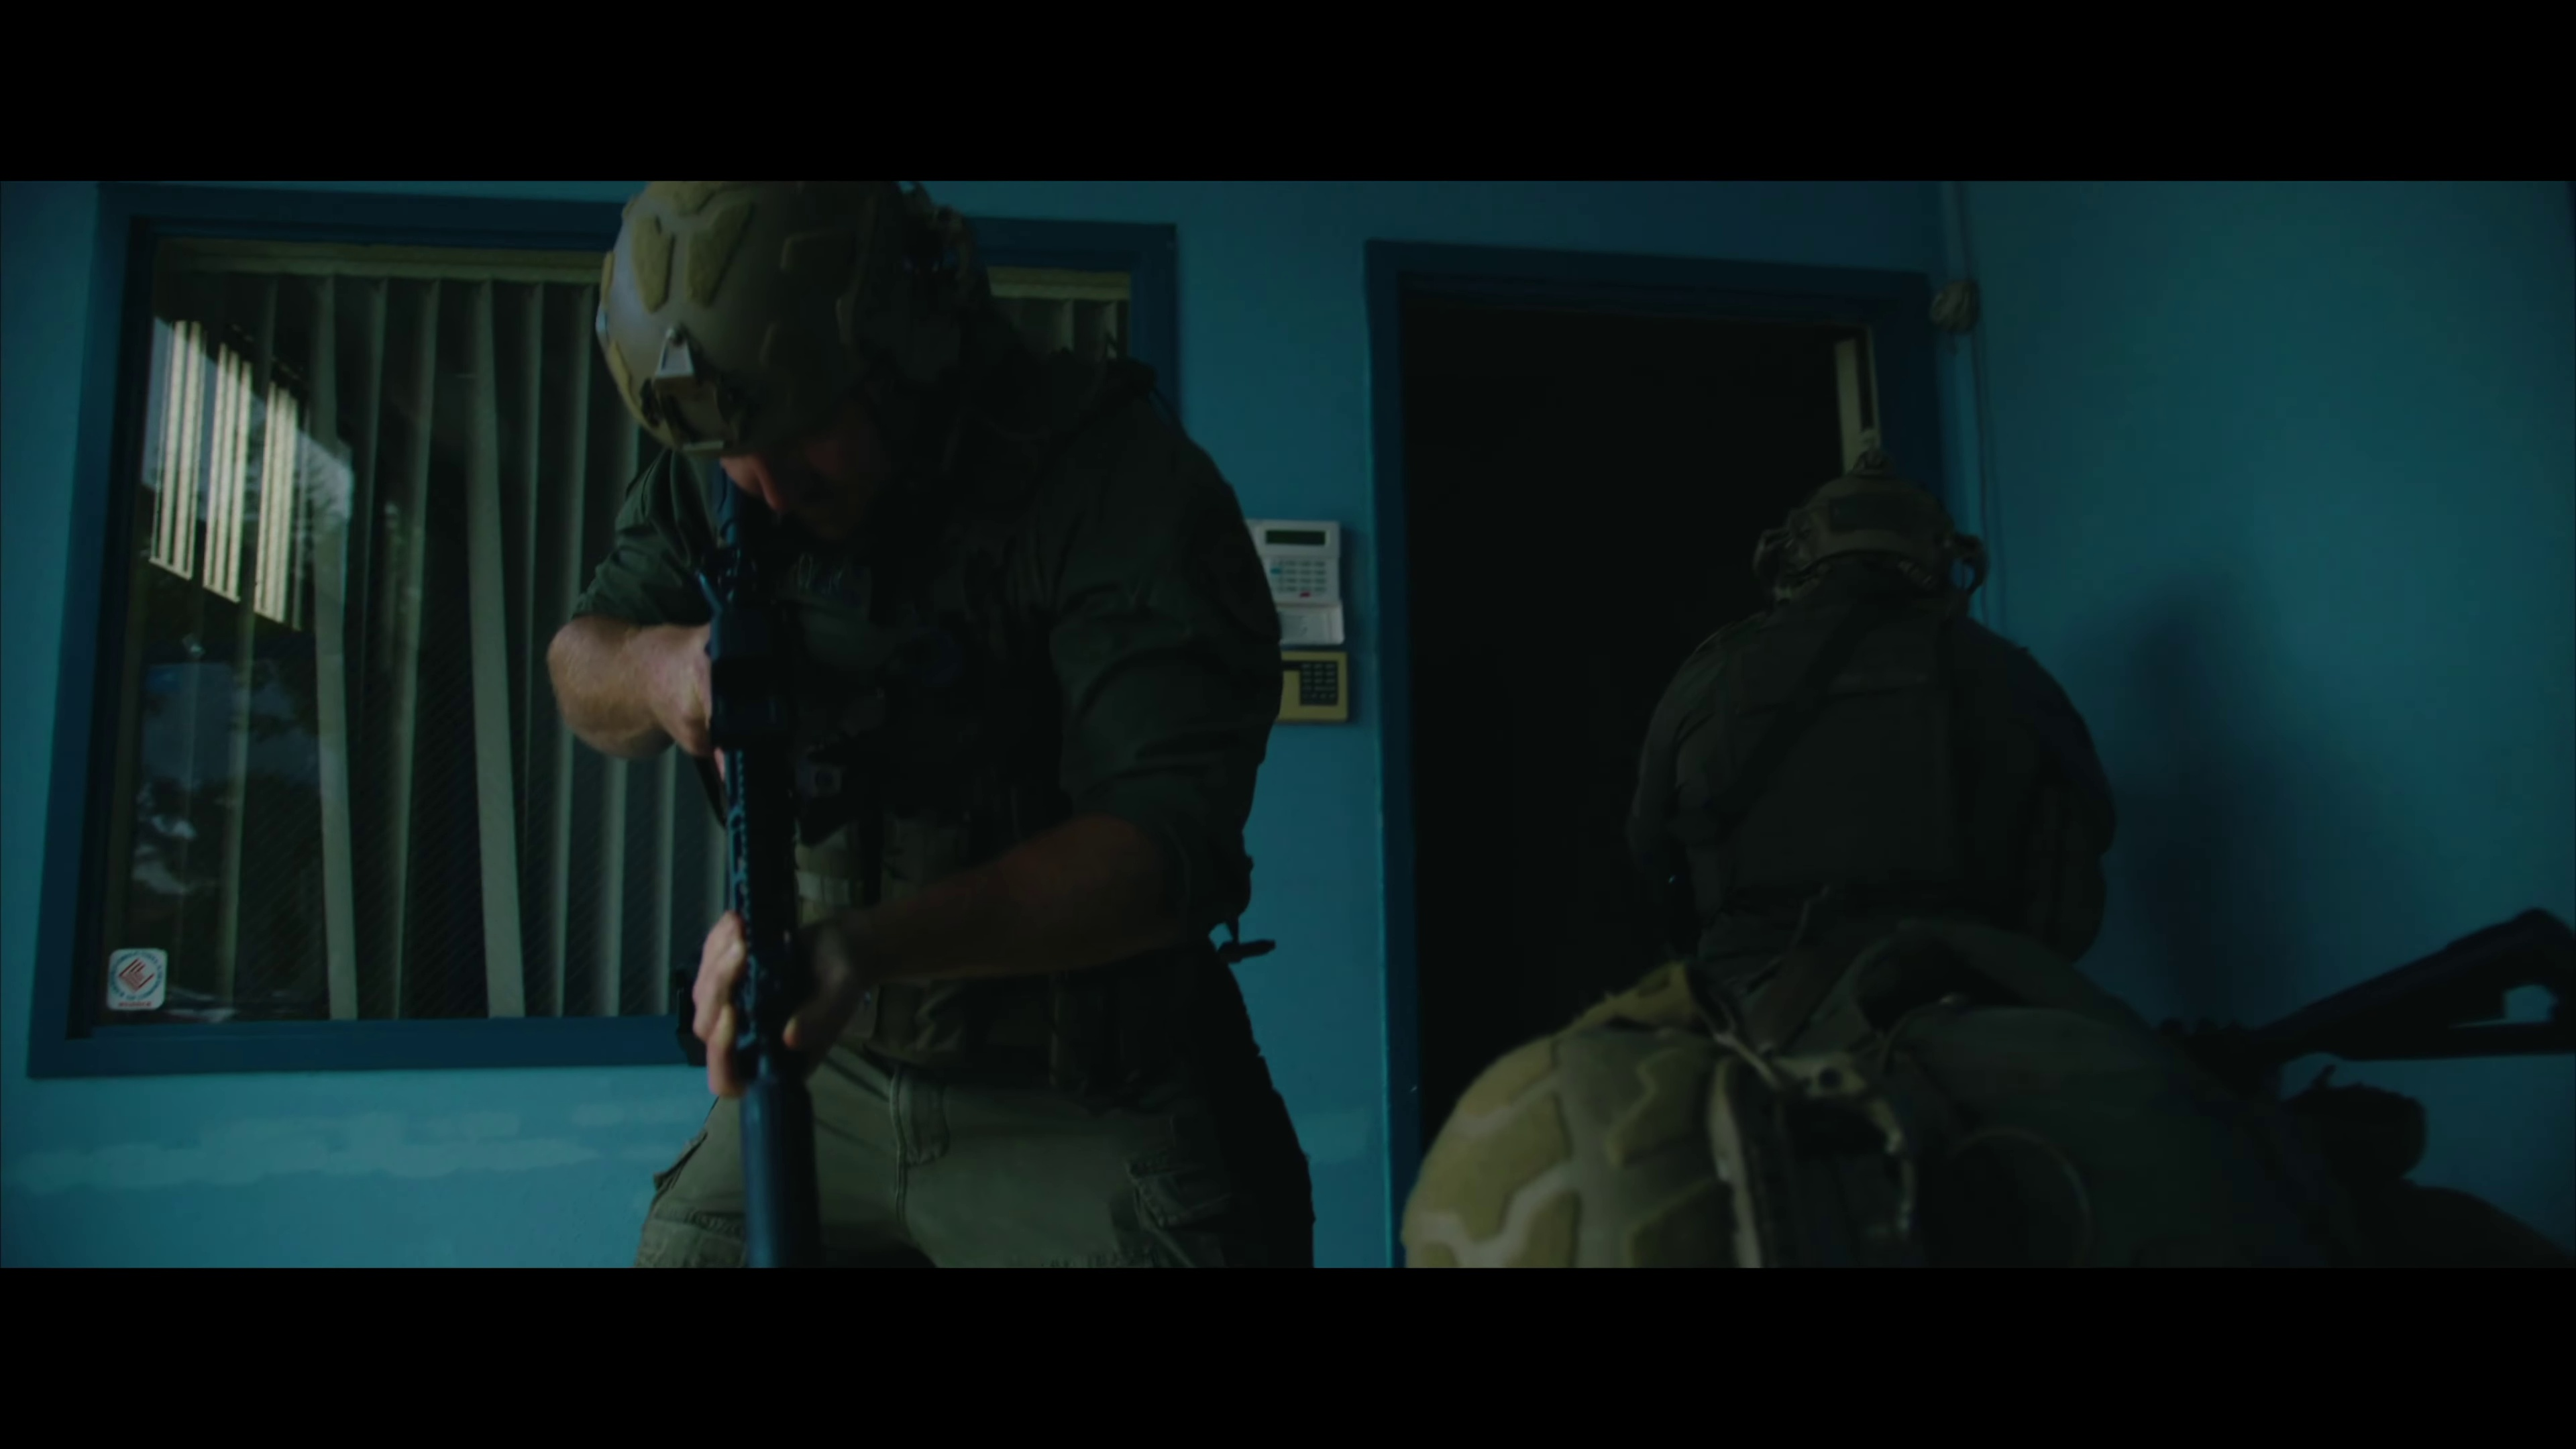gun: (678, 462, 867, 1261)
p_w_gun: (541, 173, 1311, 1269)
p_wo_gun_not_carrying_normal_pose: (1631, 449, 2105, 984)
